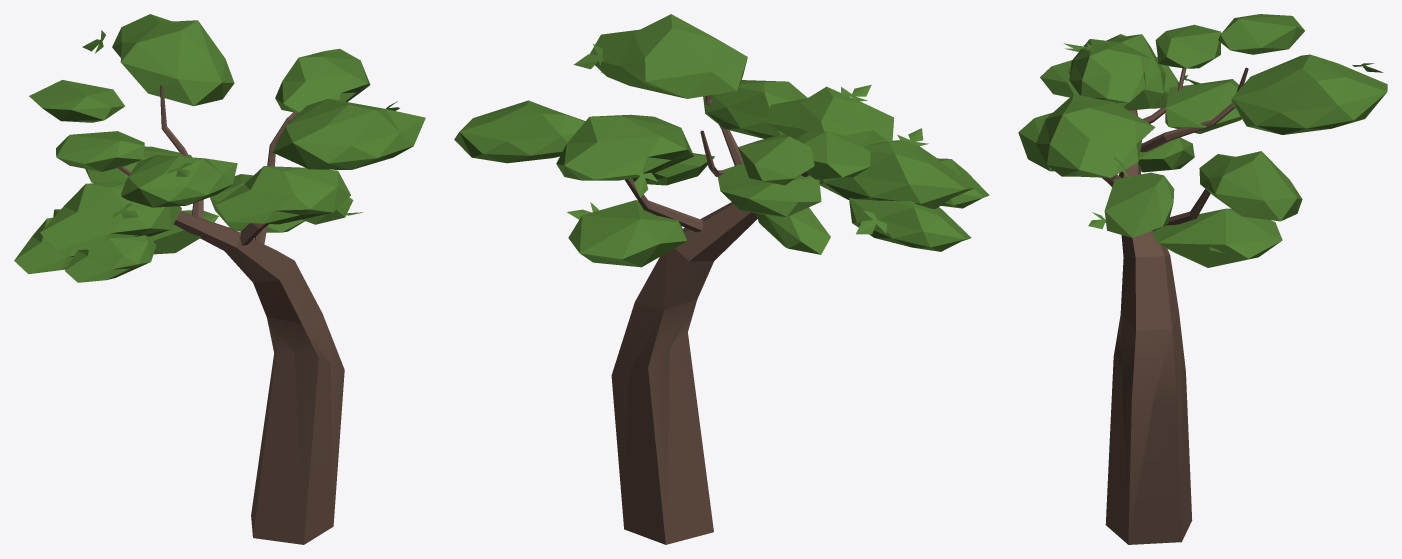
The model's file is Bonsai1.fbx.
The picture shows the model from 3 angles, left to right: view 1: azimuth 30°, elevation 25°; view 2: azimuth 150°, elevation 25°; view 3: azimuth 270°, elevation 25°; orthographic projection. The views are drawn at different scales.
Visible parts, largest first — view 1: Bonsai1; view 2: Bonsai1; view 3: Bonsai1.
Part boxes in pixels (<box>): Bonsai1: <box>14,14,425,544</box>; Bonsai1: <box>454,14,989,544</box>; Bonsai1: <box>1018,14,1387,544</box>.
Bounding box in the file's own units: 698 × 720 × 542.
